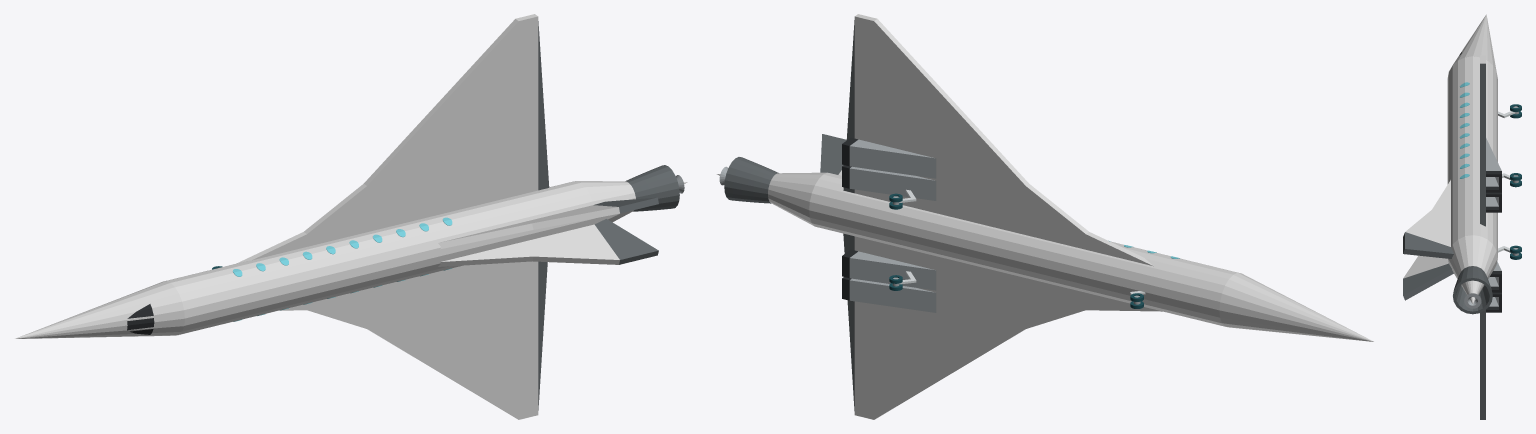
Rendered from tinker.obj.
3 renders of one model, left to right at view 1: azimuth 30°, elevation 25°; view 2: azimuth 150°, elevation 25°; view 3: azimuth 270°, elevation 25°, orthographic. The views are drawn at different scales.
Visible parts, largest first — view 1: group_0_16448250, group_0_6383466, group_0_7720667; view 2: group_0_16448250, group_0_10988977, group_0_6383466, group_0_2829873; view 3: group_0_16448250, group_0_6383466, group_0_10988977, group_0_2829873, group_0_1855578, group_0_7720667, group_0_14541540.
Boxes of the visible parts, x1,y1,x2,y2 form: group_0_16448250: (15,14,687,419); group_0_6383466: (538,21,679,410); group_0_7720667: (233,217,452,321); group_0_16448250: (717,14,1373,419); group_0_10988977: (719,139,1140,312); group_0_6383466: (724,20,854,410); group_0_2829873: (842,137,858,300); group_0_16448250: (1403,14,1497,303); group_0_6383466: (1403,63,1492,419); group_0_10988977: (1464,106,1518,308); group_0_2829873: (1459,52,1501,312); group_0_1855578: (1510,104,1521,259); group_0_7720667: (1459,82,1469,178); group_0_14541540: (1498,111,1515,253).
Size of the model in its own units: 199 by 114 by 34.49.
